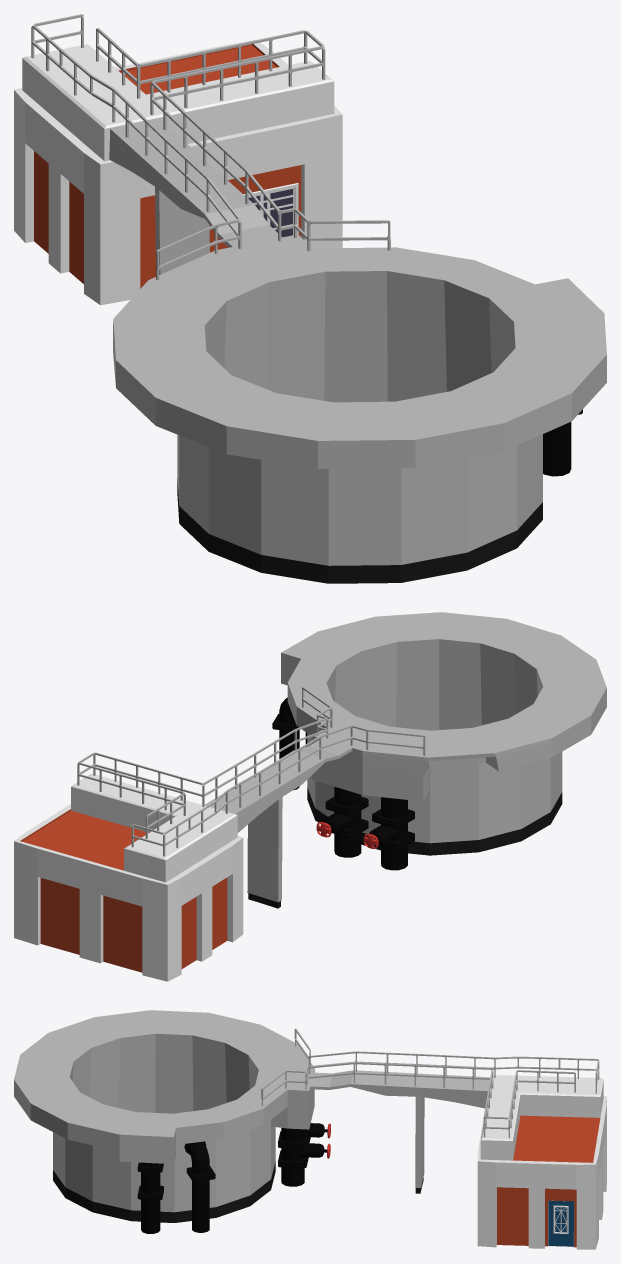
The model's file is Silo_With_Control_Building.fbx.
3 renders of one model, top to bottom at view 1: azimuth 30°, elevation 25°; view 2: azimuth 150°, elevation 25°; view 3: azimuth 270°, elevation 25°, orthographic. The views are drawn at different scales.
Parts seen in each view (by area): view 1: Cylinder; view 2: Cylinder; view 3: Cylinder.
Part boxes in pixels (box(x1,y1,x2,y2)): Cylinder: box(14, 14, 606, 583); Cylinder: box(14, 612, 606, 981); Cylinder: box(14, 1010, 606, 1249).
Bounding box in the file's own units: 542 × 233 × 981.
